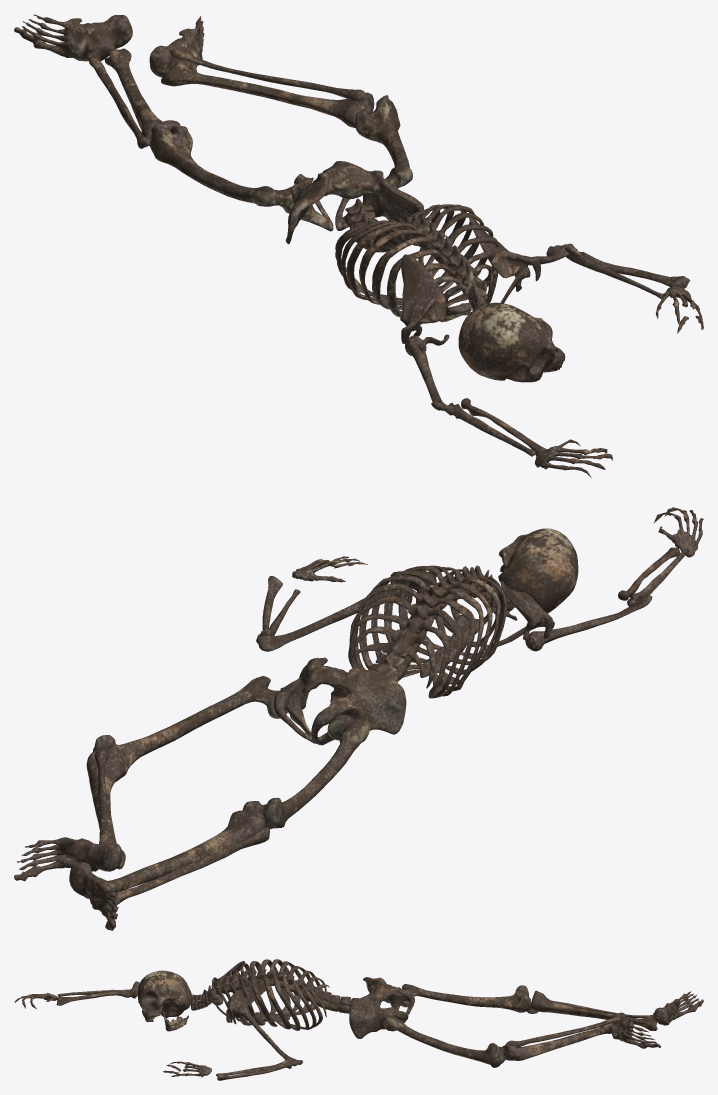
The model's file is SM_Skeleton_02.glb.
3 views of the same model, one above another, from view 1: azimuth 30°, elevation 25°; view 2: azimuth 150°, elevation 25°; view 3: azimuth 270°, elevation 25° (orthographic). The views are drawn at different scales.
Parts seen in each view (by area): view 1: SM_Skeleton_02; view 2: SM_Skeleton_02; view 3: SM_Skeleton_02.
Boxes of the visible parts, box(x1,y1,x2,y2) form: SM_Skeleton_02: box(14, 14, 703, 477); SM_Skeleton_02: box(14, 507, 703, 930); SM_Skeleton_02: box(14, 959, 703, 1080).
Bounding box in the file's own units: 0.8425 × 0.2443 × 2.67.
Materials: 1 (1 with a texture image).
